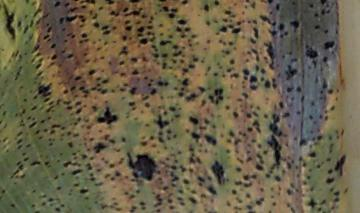tarspot: (126, 151, 157, 180), (267, 135, 282, 168), (3, 3, 16, 40), (210, 160, 226, 185), (263, 41, 276, 70), (98, 108, 118, 124), (335, 155, 346, 177), (285, 64, 298, 81), (37, 83, 52, 97), (270, 113, 280, 134), (203, 134, 217, 146), (259, 13, 272, 25), (125, 8, 144, 16), (306, 46, 318, 58), (95, 142, 107, 153), (65, 13, 78, 23), (289, 19, 299, 32), (207, 184, 218, 195), (323, 39, 335, 49), (156, 113, 163, 129), (185, 92, 196, 102), (33, 5, 42, 17), (255, 153, 264, 165), (154, 194, 162, 207), (308, 198, 318, 207), (188, 196, 198, 205), (267, 29, 278, 37), (252, 27, 259, 39), (306, 150, 315, 159), (298, 138, 307, 147), (206, 93, 215, 102), (10, 170, 19, 179), (110, 9, 120, 17), (139, 37, 149, 45), (129, 86, 137, 96), (281, 111, 291, 119), (264, 79, 272, 89), (189, 116, 199, 124), (251, 119, 261, 127), (295, 85, 303, 94), (223, 8, 232, 16), (202, 4, 210, 13), (235, 156, 244, 164), (63, 159, 72, 167), (33, 43, 40, 53), (118, 49, 128, 56), (177, 18, 187, 25), (160, 51, 170, 58), (278, 21, 285, 31), (254, 63, 261, 73), (191, 132, 201, 139), (269, 163, 276, 173), (196, 175, 206, 182), (68, 6, 79, 12), (99, 24, 110, 30), (311, 59, 317, 70), (229, 73, 240, 79), (30, 160, 41, 166), (159, 40, 172, 45), (92, 21, 100, 29), (167, 11, 175, 19), (328, 104, 336, 112), (220, 25, 228, 33), (250, 75, 258, 83), (157, 135, 165, 143), (228, 129, 236, 137), (234, 138, 242, 146), (274, 174, 282, 182), (52, 1, 61, 8), (42, 33, 51, 40), (182, 77, 189, 86), (255, 164, 264, 171), (212, 88, 219, 97), (326, 177, 335, 184), (103, 132, 110, 141), (114, 170, 123, 177), (23, 24, 29, 34), (80, 1, 95, 5), (150, 32, 156, 42), (320, 6, 326, 16), (231, 28, 241, 34), (248, 84, 258, 90), (51, 123, 61, 129), (72, 168, 82, 174), (79, 188, 89, 194), (313, 74, 319, 84), (74, 100, 82, 107), (58, 16, 65, 24), (80, 32, 88, 39), (137, 26, 145, 33), (130, 56, 138, 63), (141, 55, 148, 63), (173, 50, 181, 57), (157, 79, 164, 87), (198, 85, 205, 93), (168, 105, 176, 112), (287, 86, 295, 93), (260, 67, 267, 75), (242, 68, 250, 75), (242, 91, 249, 99), (200, 98, 207, 106), (234, 179, 242, 186), (189, 156, 196, 164), (182, 178, 190, 185), (118, 156, 125, 164), (242, 182, 253, 187), (93, 181, 104, 186), (73, 75, 82, 81), (151, 87, 157, 96), (141, 95, 150, 101), (275, 2, 281, 11), (250, 1, 256, 10), (245, 126, 254, 132), (196, 155, 202, 164), (73, 161, 82, 167), (72, 174, 81, 180), (29, 18, 34, 28), (323, 79, 328, 89), (197, 125, 207, 130), (64, 1, 71, 8), (47, 105, 54, 112), (55, 98, 62, 105), (88, 68, 95, 75), (77, 13, 84, 20), (92, 12, 99, 19), (90, 85, 97, 92), (162, 6, 169, 13), (175, 26, 182, 33), (189, 62, 196, 69), (182, 66, 189, 73), (204, 117, 211, 124), (246, 112, 253, 119), (225, 137, 232, 144), (327, 167, 334, 174), (180, 165, 187, 172), (56, 61, 63, 68), (50, 54, 58, 60), (47, 61, 55, 67), (66, 53, 74, 59), (100, 88, 108, 94), (125, 25, 133, 31), (123, 19, 131, 25), (170, 7, 178, 13), (146, 24, 154, 30), (151, 52, 159, 58), (131, 69, 139, 75), (30, 120, 36, 128), (319, 1, 327, 7), (308, 112, 314, 120), (278, 101, 284, 109), (205, 19, 211, 27), (249, 38, 257, 44), (244, 156, 252, 162), (289, 181, 295, 189), (225, 199, 231, 207), (177, 188, 185, 194), (1, 136, 9, 142), (22, 156, 30, 162), (18, 163, 24, 171), (171, 163, 177, 171), (171, 176, 179, 182), (63, 100, 72, 105), (36, 17, 41, 26), (10, 49, 15, 58), (300, 94, 305, 103), (212, 1, 221, 6), (176, 196, 185, 201), (66, 105, 73, 111), (20, 108, 27, 114), (122, 35, 128, 42), (179, 33, 186, 39), (128, 100, 135, 106), (178, 58, 185, 64), (192, 56, 199, 62), (139, 108, 145, 115), (79, 123, 85, 130), (177, 91, 184, 97), (322, 56, 328, 63), (286, 162, 292, 169), (250, 138, 257, 144), (222, 17, 229, 23), (236, 20, 243, 26), (252, 48, 259, 54), (218, 88, 224, 95), (233, 111, 239, 118), (264, 96, 271, 102), (248, 103, 255, 109), (253, 111, 260, 117), (225, 147, 231, 154), (235, 167, 242, 173), (243, 174, 249, 181), (237, 197, 243, 204), (286, 189, 292, 196), (333, 191, 340, 197), (209, 197, 215, 204), (200, 193, 207, 199), (229, 83, 235, 90), (9, 202, 16, 208), (73, 182, 80, 188), (88, 135, 95, 141), (81, 153, 87, 160), (150, 142, 157, 148), (129, 193, 136, 199), (156, 168, 162, 175), (51, 72, 57, 79), (275, 71, 282, 77), (281, 132, 288, 138), (286, 122, 292, 129), (17, 19, 22, 27), (136, 32, 144, 37), (172, 44, 180, 49), (162, 61, 167, 69), (341, 127, 345, 137), (329, 144, 333, 154), (255, 55, 260, 63), (234, 205, 242, 210), (189, 189, 197, 194), (100, 204, 108, 209), (28, 32, 33, 40), (129, 1, 142, 4), (63, 89, 69, 95), (70, 85, 76, 91), (76, 108, 82, 114), (91, 105, 97, 111), (33, 94, 39, 100), (31, 105, 37, 111), (46, 27, 52, 33), (119, 60, 125, 66), (180, 1, 189, 5), (158, 31, 164, 37), (171, 58, 177, 64), (308, 3, 314, 9), (314, 24, 320, 30), (323, 29, 329, 35), (334, 88, 340, 94), (325, 157, 331, 163), (316, 135, 322, 141), (298, 156, 304, 162), (257, 143, 263, 149), (263, 55, 269, 61), (272, 21, 278, 27), (252, 18, 258, 24), (247, 19, 253, 25), (215, 30, 221, 36), (205, 39, 211, 45), (229, 59, 235, 65), (243, 75, 249, 81), (219, 132, 225, 138), (242, 131, 248, 137), (238, 130, 244, 136), (251, 174, 257, 180), (255, 200, 261, 206), (290, 207, 296, 213), (328, 186, 334, 192), (188, 167, 194, 173), (16, 144, 22, 150), (67, 142, 73, 148), (67, 191, 73, 197), (110, 139, 116, 145), (121, 137, 127, 143), (149, 134, 155, 140), (113, 200, 119, 206), (150, 190, 156, 196), (167, 198, 173, 204), (38, 152, 44, 158), (18, 53, 23, 60), (48, 100, 55, 105), (36, 71, 43, 76), (35, 64, 42, 69), (37, 58, 44, 63), (66, 32, 73, 37), (119, 87, 126, 92), (119, 72, 126, 77), (122, 45, 129, 50), (135, 20, 142, 25), (167, 34, 174, 39), (164, 80, 169, 87), (145, 101, 150, 108), (85, 124, 92, 129), (159, 94, 164, 101), (163, 119, 168, 126), (328, 88, 333, 95), (319, 113, 324, 120), (334, 128, 339, 135), (311, 135, 316, 142), (291, 58, 298, 63), (295, 111, 302, 116), (271, 77, 276, 84), (264, 173, 271, 178), (330, 204, 335, 211), (333, 197, 340, 202), (310, 128, 315, 135), (208, 174, 213, 181), (47, 197, 54, 202), (49, 129, 56, 134), (61, 124, 66, 131), (141, 141, 148, 146), (104, 173, 111, 178), (108, 204, 115, 209), (156, 176, 163, 181), (106, 1, 114, 5), (103, 31, 111, 35), (266, 1, 274, 5), (235, 98, 243, 102), (246, 205, 254, 209), (345, 186, 349, 194), (138, 201, 146, 205), (291, 94, 295, 102), (51, 43, 56, 49), (73, 93, 79, 98), (43, 97, 49, 102), (22, 97, 28, 102), (2, 110, 7, 116), (36, 52, 42, 57), (47, 38, 53, 43), (84, 58, 90, 63), (79, 39, 84, 45), (91, 40, 97, 45), (103, 40, 108, 46), (102, 79, 108, 84), (111, 88, 116, 94), (123, 82, 129, 87), (141, 14, 147, 19), (185, 27, 191, 32), (191, 34, 197, 39), (152, 43, 157, 49), (186, 38, 192, 43), (174, 86, 179, 92), (168, 64, 173, 70), (120, 95, 126, 100), (19, 122, 25, 127), (133, 116, 139, 121), (84, 118, 90, 123), (163, 110, 168, 116), (157, 103, 162, 109), (174, 112, 179, 118), (314, 12, 319, 18), (316, 163, 321, 169), (302, 163, 308, 168), (272, 84, 277, 90), (260, 76, 265, 82), (230, 14, 236, 19), (229, 24, 235, 29), (225, 49, 230, 55), (228, 41, 234, 46), (203, 72, 209, 77), (241, 84, 247, 89), (219, 96, 225, 101), (225, 104, 230, 110), (185, 128, 191, 133), (189, 147, 195, 152), (256, 106, 262, 111), (256, 127, 261, 133), (260, 187, 265, 193), (246, 193, 252, 198), (286, 202, 291, 208), (306, 175, 312, 180), (302, 180, 308, 185), (309, 186, 314, 192), (321, 199, 326, 205), (317, 206, 322, 212), (198, 182, 204, 187), (190, 152, 196, 157), (17, 131, 23, 136), (16, 139, 22, 144), (20, 174, 26, 179), (30, 203, 36, 208), (55, 207, 61, 212), (56, 185, 62, 190), (60, 171, 66, 176), (35, 129, 41, 134), (60, 131, 65, 137), (66, 131, 72, 136), (73, 132, 79, 137), (83, 196, 89, 201), (116, 147, 121, 153), (140, 135, 146, 140), (110, 176, 116, 181), (93, 200, 99, 205), (123, 191, 129, 196), (129, 208, 135, 213), (170, 183, 176, 188), (24, 39, 29, 45), (206, 108, 211, 114), (147, 67, 152, 73), (83, 90, 90, 94), (78, 86, 85, 90), (42, 14, 49, 18), (15, 50, 19, 57), (81, 5, 88, 9), (170, 115, 174, 122), (244, 3, 248, 10), (222, 39, 226, 46), (212, 72, 219, 76), (220, 74, 227, 78), (226, 68, 233, 72), (47, 142, 54, 146), (89, 177, 96, 181), (168, 206, 175, 210), (170, 171, 174, 178), (77, 117, 82, 122), (18, 65, 23, 70), (14, 112, 19, 117), (83, 52, 88, 57), (99, 6, 104, 11), (96, 46, 101, 51), (97, 37, 102, 42), (112, 25, 117, 30), (96, 76, 101, 81), (154, 11, 159, 16), (148, 19, 153, 24), (158, 23, 163, 28), (188, 43, 193, 48), (147, 82, 152, 87), (131, 106, 136, 111), (100, 68, 105, 73), (156, 61, 161, 66), (200, 59, 205, 64), (288, 51, 293, 56), (285, 143, 290, 148), (308, 168, 313, 173), (263, 150, 268, 155), (241, 10, 246, 15), (241, 35, 246, 40), (245, 58, 250, 63), (233, 46, 238, 51), (218, 38, 223, 43), (164, 145, 169, 150), (212, 124, 217, 129), (281, 169, 286, 174), (232, 189, 237, 194), (260, 197, 265, 202), (272, 201, 277, 206), (277, 192, 282, 197), (296, 173, 301, 178), (316, 128, 321, 133), (5, 149, 10, 154), (26, 143, 31, 148), (54, 175, 59, 180), (56, 158, 61, 163), (38, 135, 43, 140), (59, 137, 64, 142), (88, 166, 93, 171), (100, 156, 105, 161), (156, 208, 161, 213), (23, 51, 28, 56), (32, 55, 35, 63), (78, 24, 84, 28), (81, 19, 87, 23), (123, 8, 129, 12), (99, 56, 105, 60), (156, 1, 168, 3), (153, 48, 159, 52), (112, 40, 118, 44), (142, 76, 148, 80), (174, 73, 178, 79), (46, 116, 52, 120), (40, 118, 44, 124), (27, 115, 31, 121), (324, 109, 328, 115), (324, 115, 328, 121), (292, 1, 296, 7), (291, 159, 295, 165), (196, 40, 200, 46), (246, 51, 252, 55), (207, 65, 211, 71), (196, 13, 202, 17), (215, 99, 219, 105), (177, 150, 183, 154), (197, 149, 203, 153), (246, 150, 252, 154), (235, 149, 239, 155), (248, 210, 256, 213), (31, 189, 37, 193), (41, 202, 47, 206), (60, 203, 66, 207), (44, 161, 50, 165), (88, 172, 94, 176), (96, 168, 102, 172), (116, 207, 122, 211), (135, 189, 141, 193), (131, 205, 137, 209), (141, 206, 147, 210), (162, 186, 168, 190), (159, 7, 162, 14), (327, 8, 330, 15), (83, 94, 88, 98), (73, 122, 78, 126), (24, 14, 28, 19), (3, 66, 8, 70), (14, 76, 18, 81), (16, 71, 20, 76), (19, 85, 24, 89), (46, 22, 50, 27), (62, 27, 66, 32), (61, 50, 66, 54), (72, 34, 76, 39), (96, 83, 101, 87), (150, 15, 154, 20), (146, 31, 151, 35), (150, 78, 154, 83), (104, 100, 109, 104), (20, 118, 24, 123), (145, 123, 150, 127), (178, 106, 182, 111), (336, 135, 341, 139), (282, 55, 286, 60), (293, 137, 298, 141), (264, 114, 268, 119), (295, 165, 299, 170), (233, 2, 237, 7), (214, 19, 218, 24), (216, 60, 220, 65), (218, 65, 223, 69), (241, 80, 246, 84), (173, 133, 177, 138), (167, 136, 172, 140), (158, 131, 163, 135), (204, 149, 209, 153), (268, 209, 273, 213), (270, 187, 275, 191), (278, 186, 282, 191), (295, 188, 299, 193), (309, 144, 313, 149), (203, 47, 208, 51), (174, 159, 179, 163), (21, 152, 26, 156), (17, 161, 22, 165), (15, 175, 20, 179), (13, 181, 17, 186), (35, 209, 40, 213), (42, 194, 47, 198), (48, 137, 52, 142), (43, 128, 48, 132), (72, 152, 77, 156), (87, 147, 91, 152), (89, 156, 94, 160), (86, 163, 91, 167), (110, 164, 115, 168), (126, 113, 129, 119), (335, 95, 338, 101), (311, 100, 314, 106), (285, 31, 288, 37), (279, 131, 282, 137), (166, 130, 172, 133), (53, 137, 56, 143), (83, 104, 87, 108), (1, 48, 5, 52), (64, 39, 68, 43), (97, 88, 101, 92), (269, 11, 273, 15), (221, 49, 225, 53), (271, 195, 275, 199), (226, 178, 230, 182), (204, 208, 208, 212), (2, 190, 6, 194), (59, 152, 63, 156), (74, 156, 78, 160), (99, 129, 103, 133), (166, 157, 170, 161), (105, 161, 109, 165), (112, 197, 116, 201), (109, 61, 112, 66), (182, 45, 185, 50), (181, 54, 186, 57), (181, 86, 184, 91), (33, 116, 36, 121), (320, 89, 323, 94), (180, 203, 185, 206), (72, 1, 79, 3), (90, 8, 92, 15), (244, 1, 251, 3), (26, 1, 30, 4), (1, 119, 3, 125), (85, 39, 89, 42), (129, 37, 133, 40), (329, 136, 332, 140), (280, 35, 284, 38), (196, 140, 200, 143)
